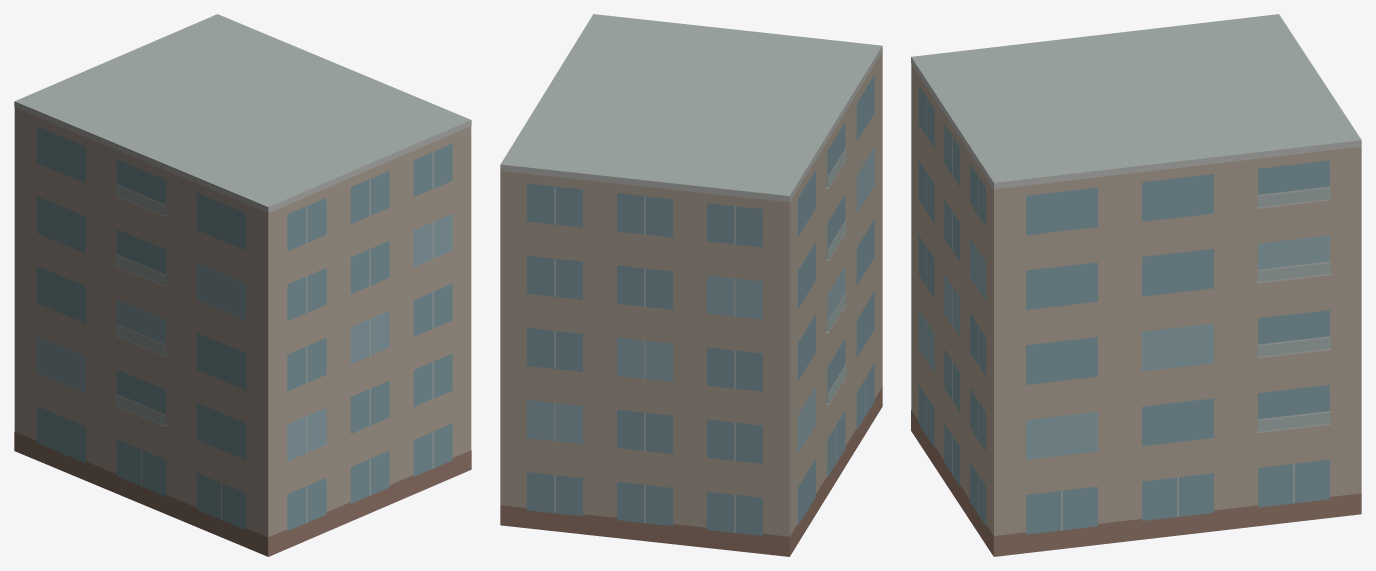
Rendered from survey-upis-32663815.glb.
3 renders of one model, left to right at view 1: azimuth 30°, elevation 25°; view 2: azimuth 150°, elevation 25°; view 3: azimuth 270°, elevation 25°, orthographic. The views are drawn at different scales.
Parts seen in each view (by area): view 1: survey-upis-32663815.tmp; view 2: survey-upis-32663815.tmp; view 3: survey-upis-32663815.tmp.
Part boxes in pixels (bbox=[...]): survey-upis-32663815.tmp: bbox=[14, 14, 471, 556]; survey-upis-32663815.tmp: bbox=[500, 14, 882, 556]; survey-upis-32663815.tmp: bbox=[911, 14, 1361, 556].
Size of the model in its own units: 13.57 by 14.01 by 15.31.
